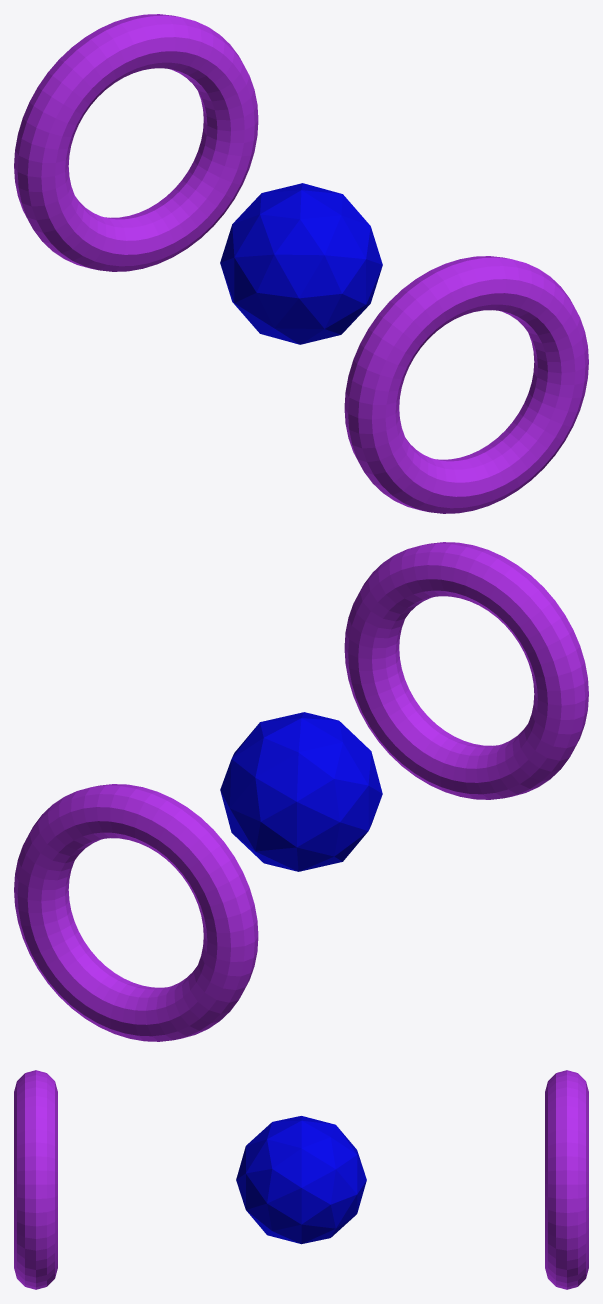
Rendered from Traps2.fbx.
The picture shows the model from 3 angles, top to bottom: view 1: azimuth 30°, elevation 25°; view 2: azimuth 150°, elevation 25°; view 3: azimuth 270°, elevation 25°; orthographic projection. The views are drawn at different scales.
Visible parts, largest first — view 1: Portal, Portaltopu; view 2: Portal, Portaltopu; view 3: Portal, Portaltopu.
Part boxes in pixels (x1,y1,x2,y2): Portal: (14, 14, 588, 513); Portaltopu: (220, 183, 382, 344); Portal: (14, 542, 588, 1041); Portaltopu: (220, 712, 382, 871); Portal: (14, 1070, 588, 1289); Portaltopu: (236, 1116, 366, 1244).
Size of the model in its own units: 245 by 245 by 641.
